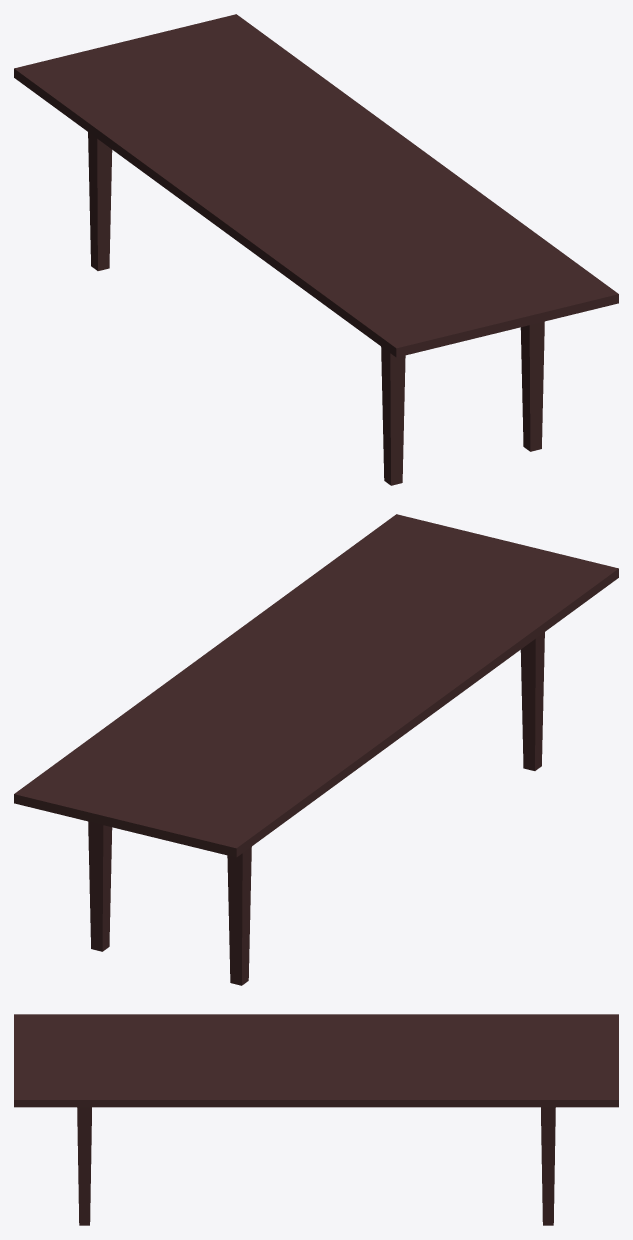
File: Dining Table.fbx
The picture shows the model from 3 angles, top to bottom: view 1: azimuth 30°, elevation 25°; view 2: azimuth 150°, elevation 25°; view 3: azimuth 270°, elevation 25°; orthographic projection. The views are drawn at different scales.
Parts seen in each view (by area): view 1: Dining Table; view 2: Dining Table; view 3: Dining Table.
Boxes of the visible parts, x1,y1,x2,y2 form: Dining Table: [14, 14, 618, 485]; Dining Table: [14, 514, 618, 985]; Dining Table: [14, 1014, 618, 1225].
Bounding box in the file's own units: 100 × 75.73 × 298.
